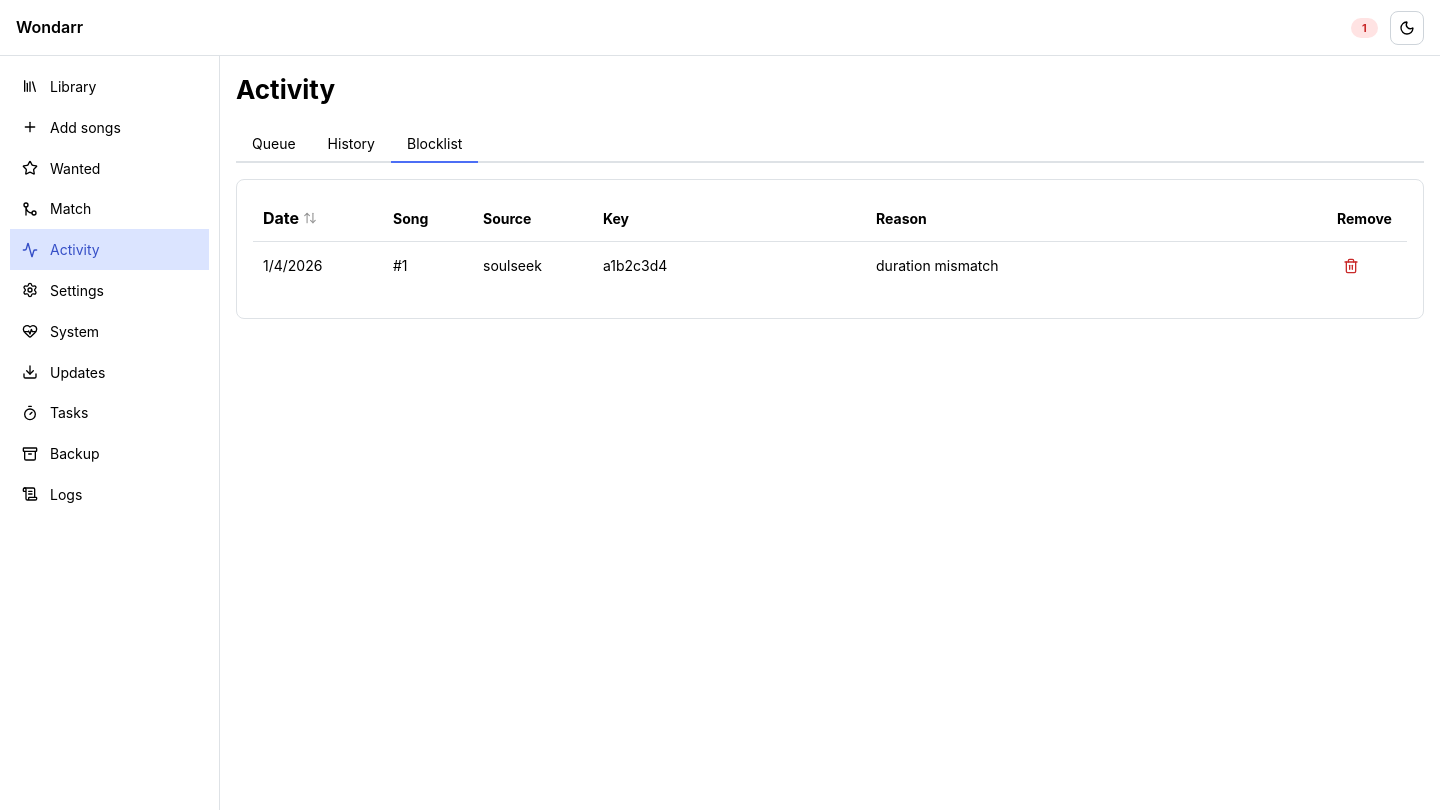
ActivityPage › shows the failure when the blocklist entry cannot be removed
This screenshot has width=1440, height=810.
Click the button named "Remove a1b2c3d4": (1351, 266) x1=1337 y1=252 x2=1365 y2=280
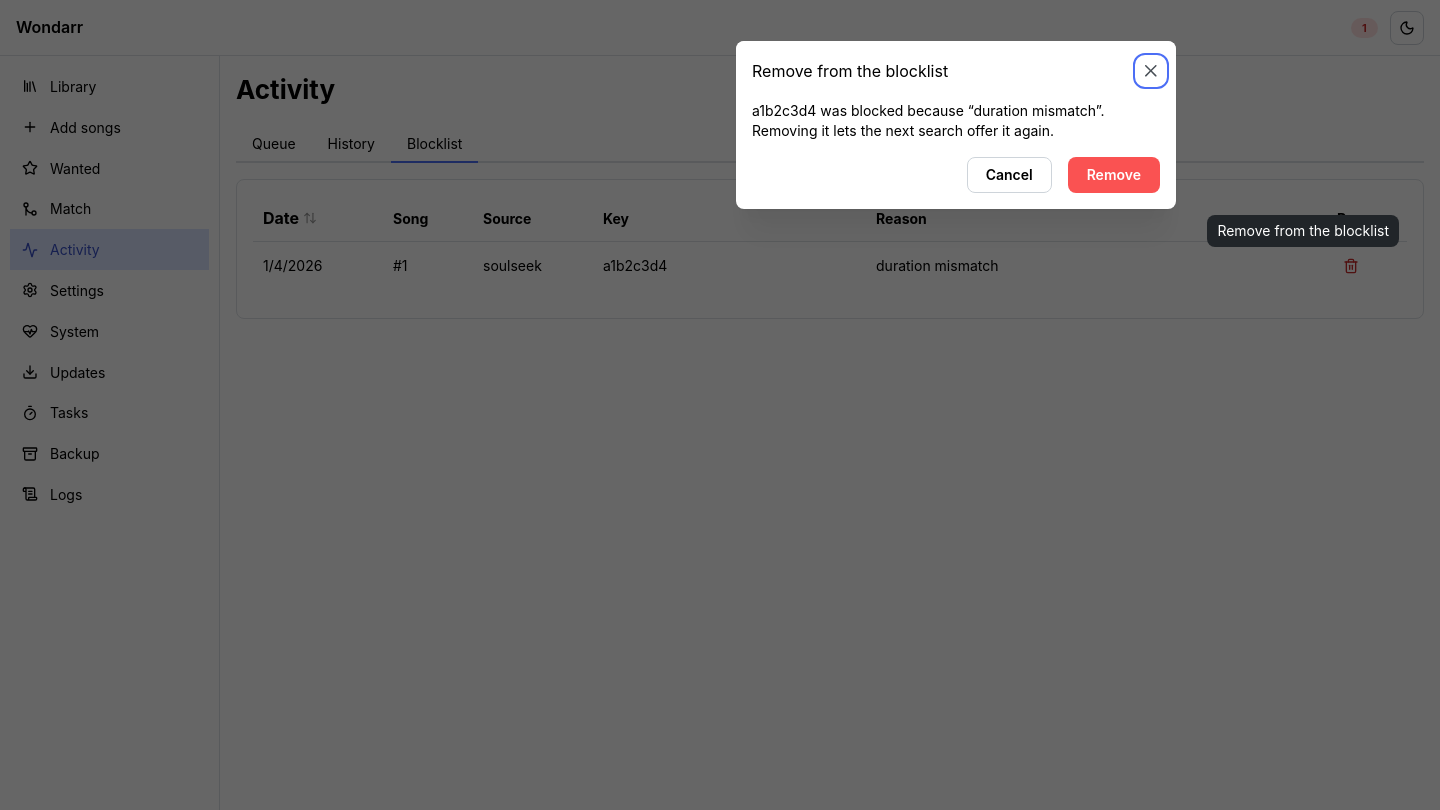
Click the button "Remove": (1114, 175) x1=1068 y1=157 x2=1160 y2=193
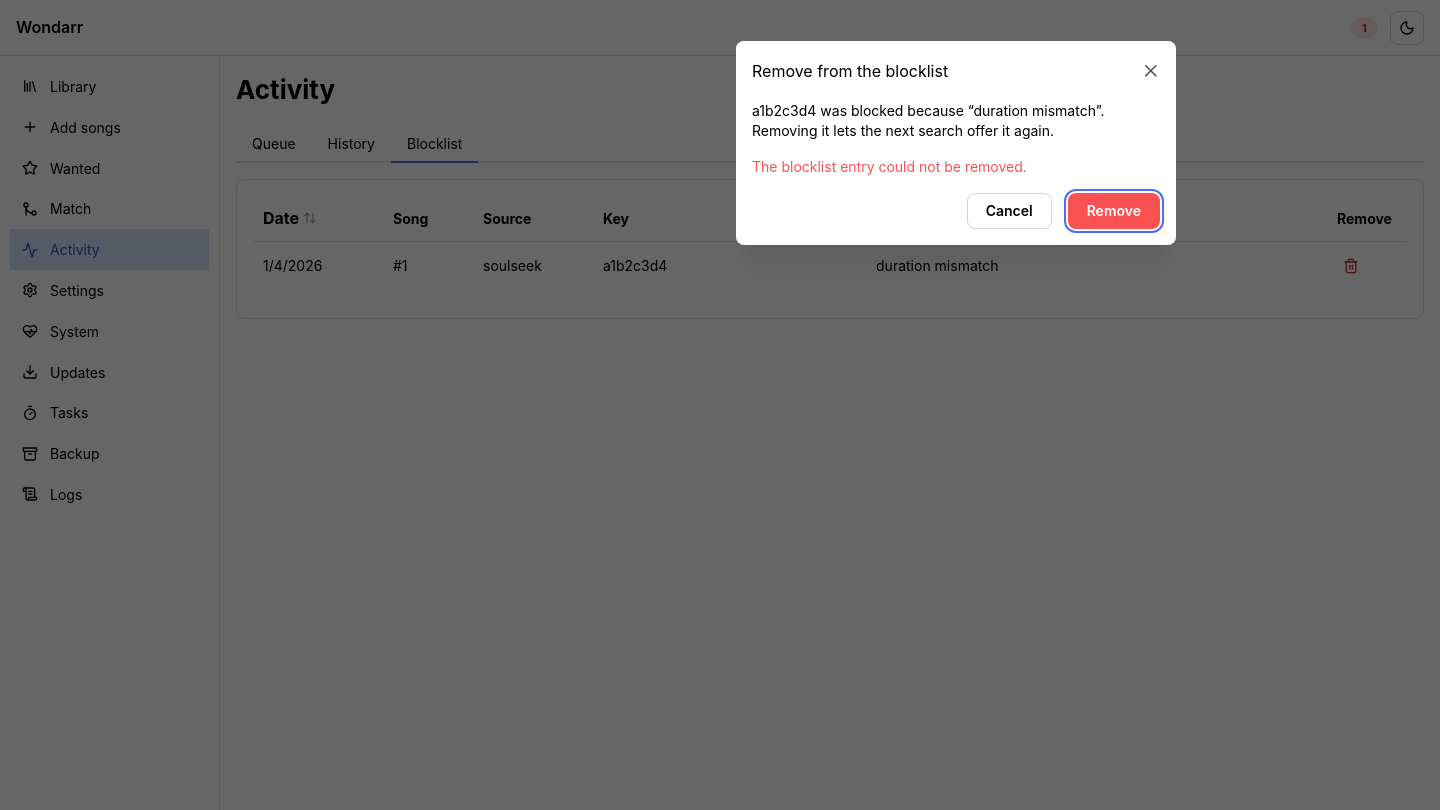
Result: the text "The blocklist entry could not be removed." is shown at x1=752 y1=158 x2=1027 y2=175
